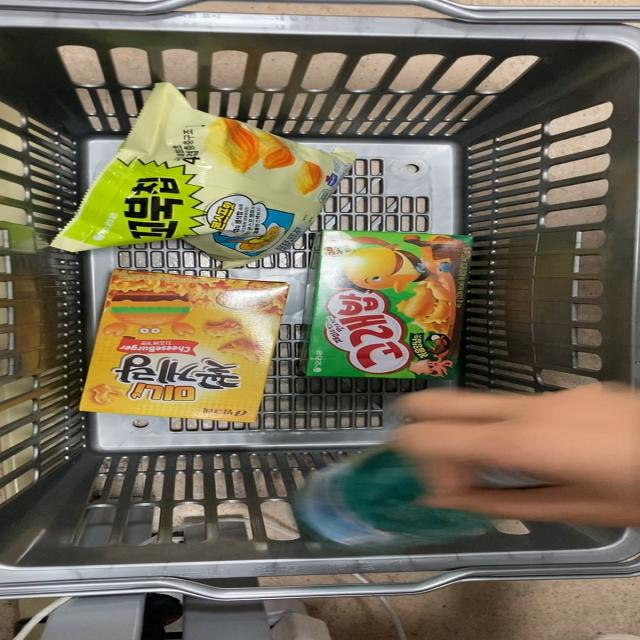ggobukchip: (37, 80, 328, 262)
goraebob: (297, 222, 486, 390)
jinro: (288, 428, 526, 548)
minicrab: (87, 273, 287, 420)
